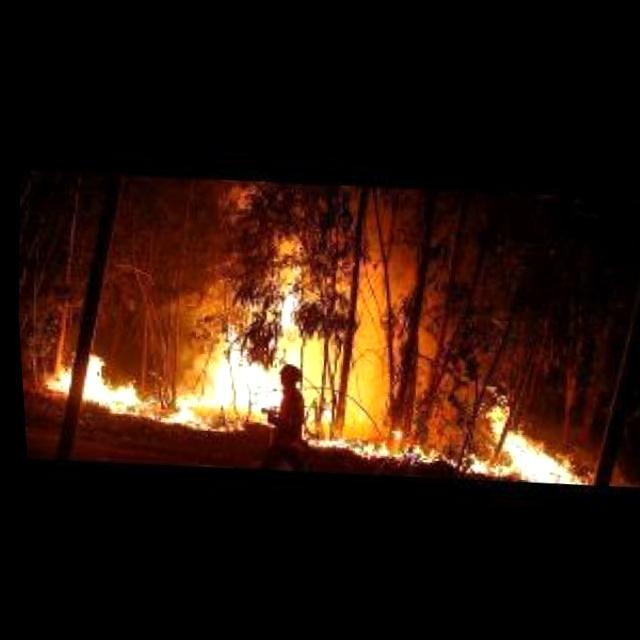fire: (28, 210, 370, 434), (380, 382, 588, 490)
